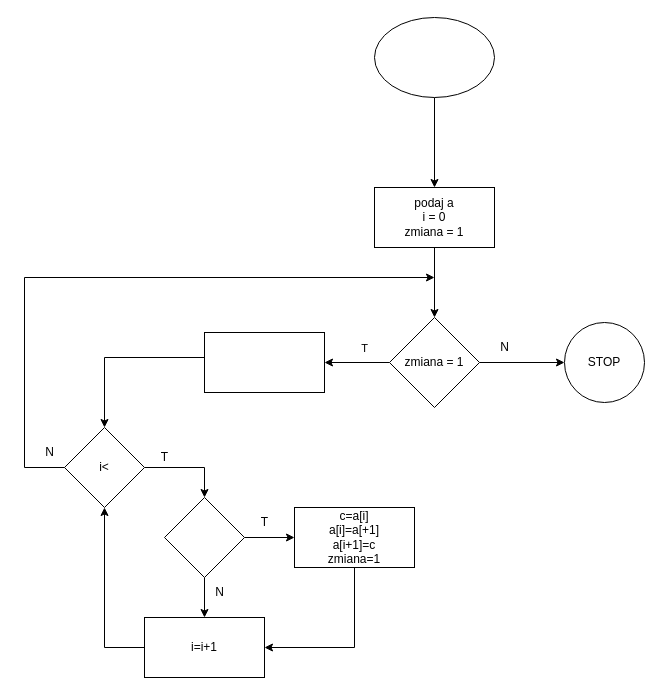
Some shapes in this 662 by 695 pixel diagram are drawn without their labels. Each missing label, with the centre of its shape:
"a[i]>a[i+1]" belongs at point (204, 537).
"START" belongs at point (434, 57).
"zmiana = 0" belongs at point (264, 362).
